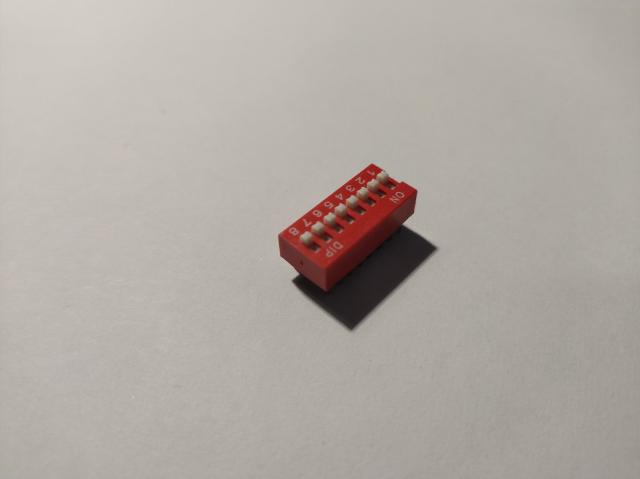dip_switch: (278, 163, 418, 295)
